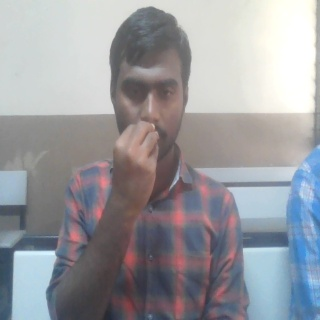Food: (106, 122, 164, 215)
